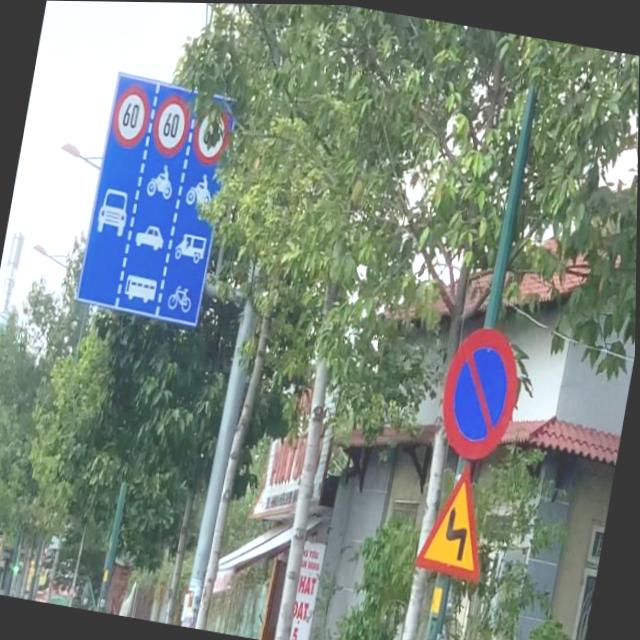Cam do xe: (427, 313, 530, 470)
Nhieu cho ngoat lien tiep ben trai: (407, 450, 505, 592)
Toc do toi da cho phep: (107, 77, 156, 156), (151, 85, 199, 158)
